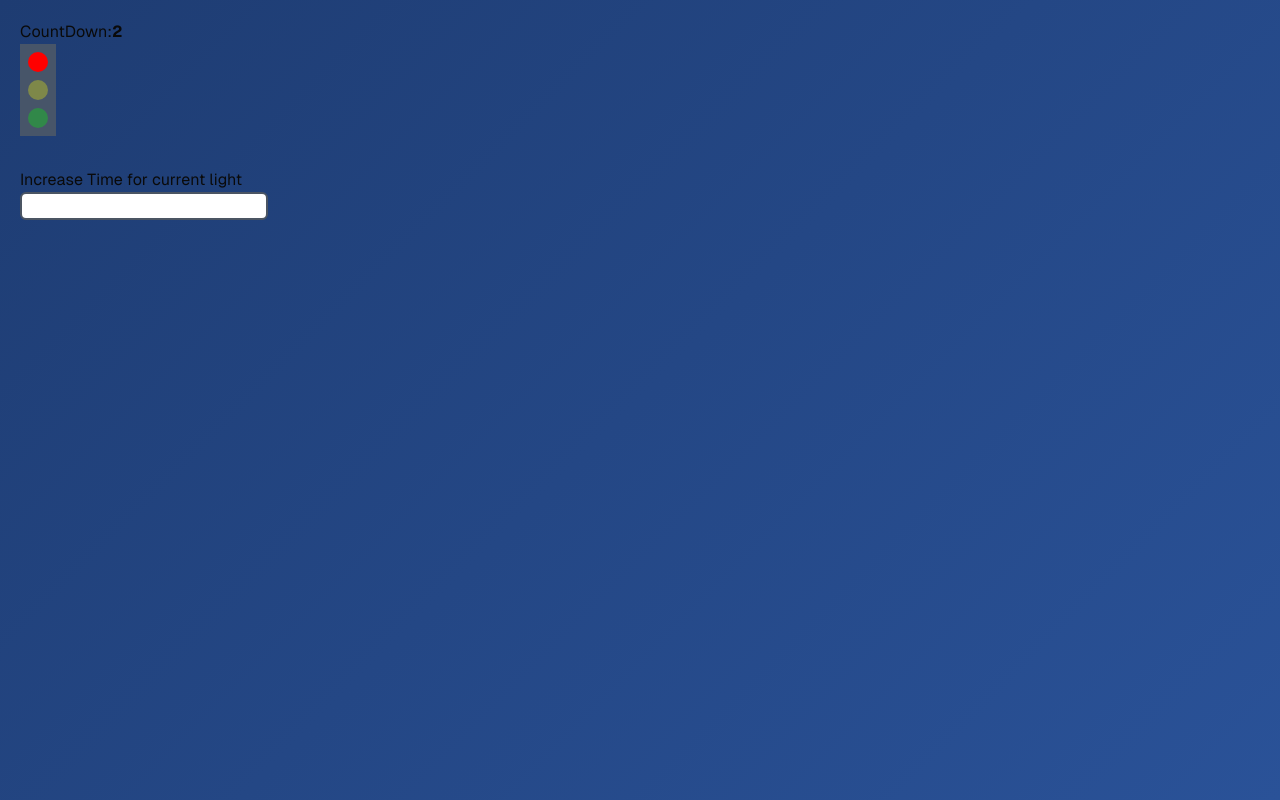
Test: TraficLights Component › only accepts numeric input for time increase
Note: Try typing non-numeric characters
Step 1. Type "abc123def" into the field labelled "Increase Time for current light" → (144, 206), box x1=20 y1=192 x2=268 y2=220
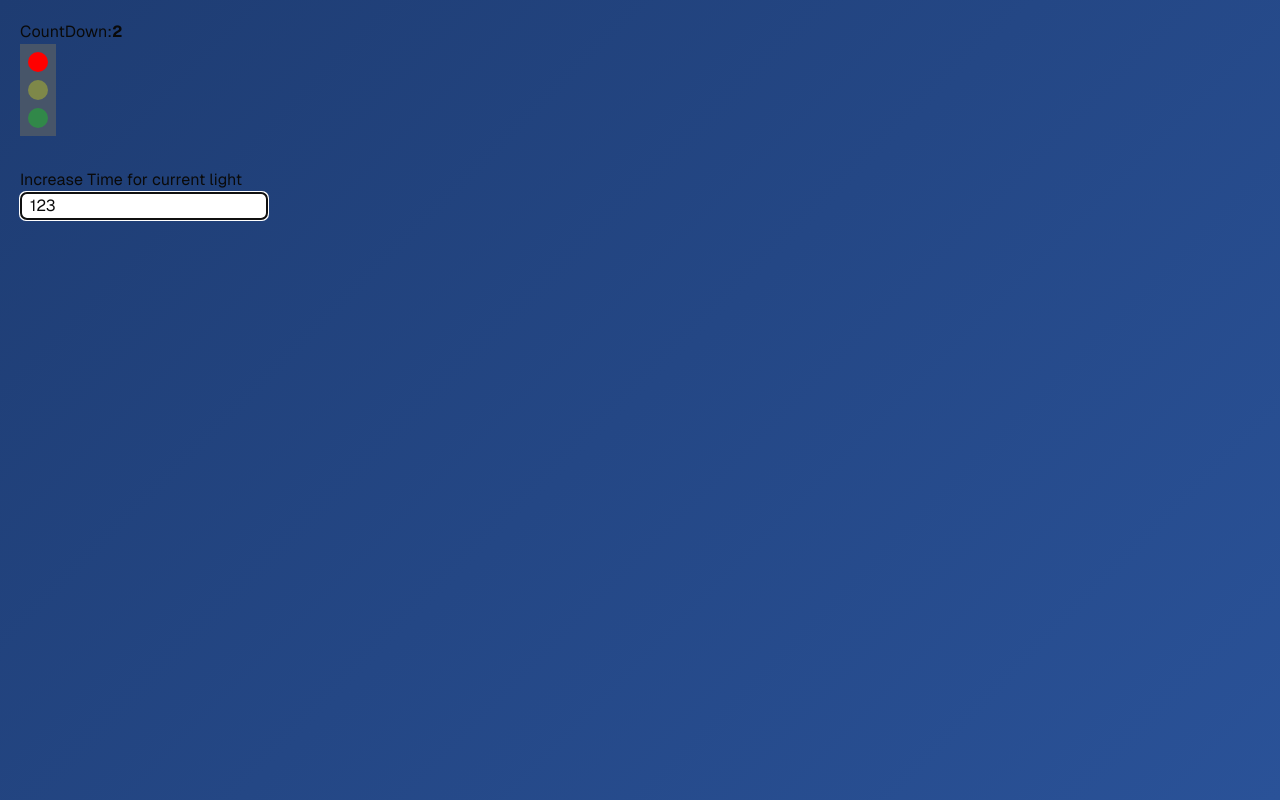
Check: the field labelled "Increase Time for current light" holds "123", box x1=20 y1=192 x2=268 y2=220
